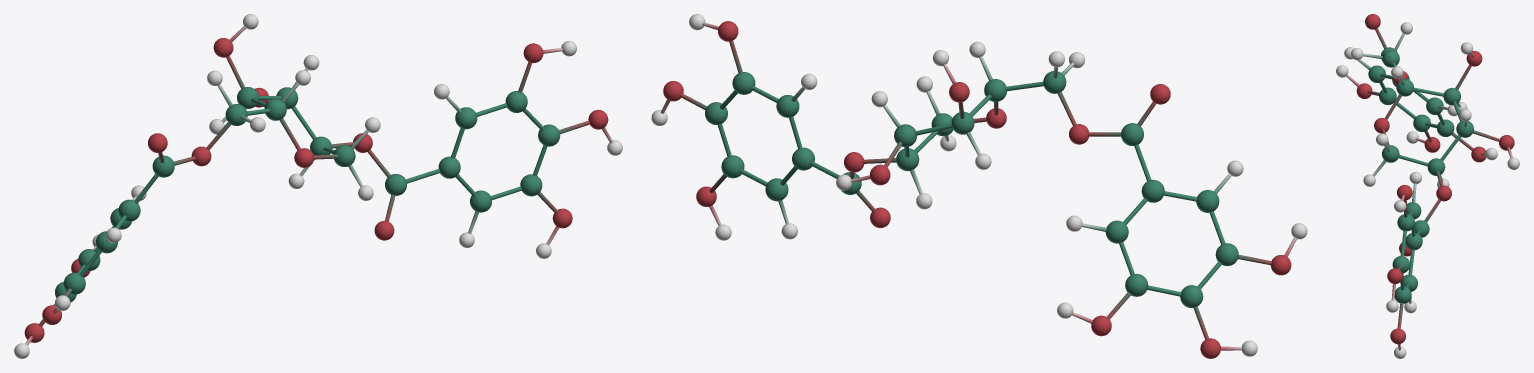
Rendered from Ginnalin A.fbx.
3 views of the same model, side by side, from view 1: azimuth 30°, elevation 25°; view 2: azimuth 150°, elevation 25°; view 3: azimuth 270°, elevation 25° (orthographic). The views are drawn at different scales.
Visible parts, largest first — view 1: curMeshHyperballExportedMesh; view 2: curMeshHyperballExportedMesh; view 3: curMeshHyperballExportedMesh.
Part boxes in pixels (x1,y1,x2,y2): curMeshHyperballExportedMesh: (14, 14, 622, 358); curMeshHyperballExportedMesh: (651, 14, 1307, 358); curMeshHyperballExportedMesh: (1336, 14, 1519, 358).
Size of the model in its own units: 17.57 by 7.7 by 5.89.
